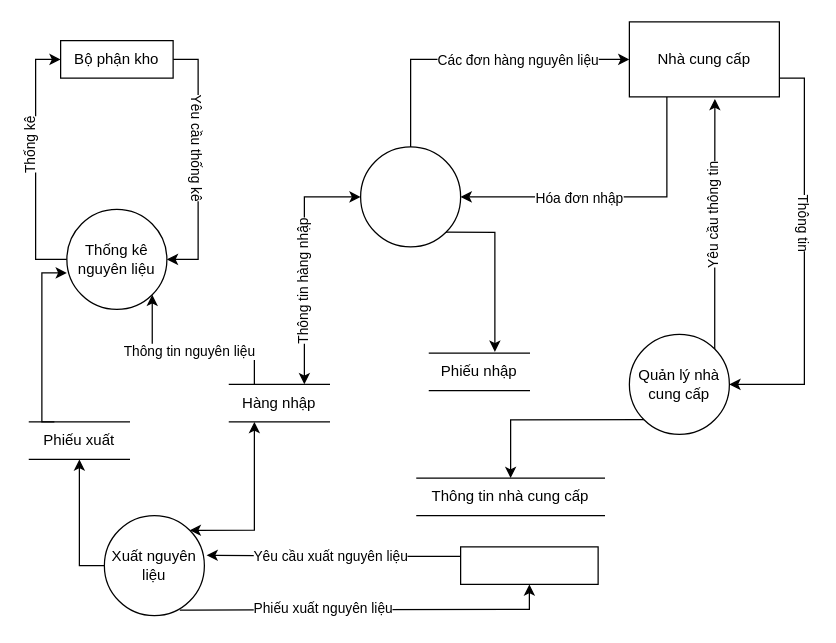
This 836x643 diagram has some shape labels left out. Each missing label, with the centre of its shape:
"Bộ phận bếp" belongs at point (528, 565).
"Nhập hàng" belongs at point (410, 196).
